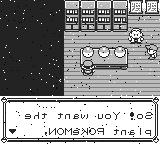leer: (130, 0, 159, 15)
main: (81, 60, 96, 76)
no-caminable: (1, 0, 64, 97), (65, 1, 127, 32), (81, 48, 127, 68)
npc: (128, 29, 144, 44), (145, 44, 159, 60)
poke-ball: (98, 46, 110, 58), (114, 46, 126, 57), (82, 46, 94, 57)
texto: (1, 97, 160, 143)
